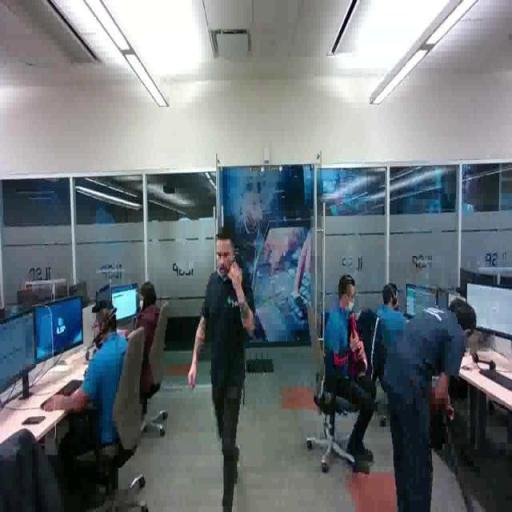person: (375, 297, 480, 512), (35, 292, 143, 494), (189, 226, 258, 512), (319, 271, 373, 464), (121, 277, 168, 377), (369, 282, 411, 362)
